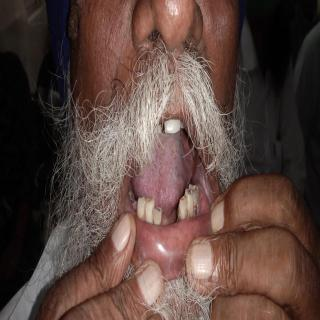calculus: (186, 202, 192, 220), (193, 203, 197, 218), (151, 216, 156, 228), (160, 219, 162, 231)
